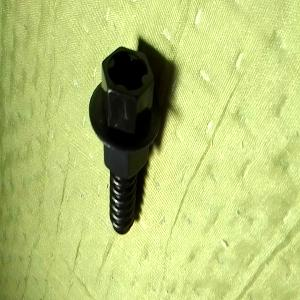parafuso: (89, 47, 163, 234)
